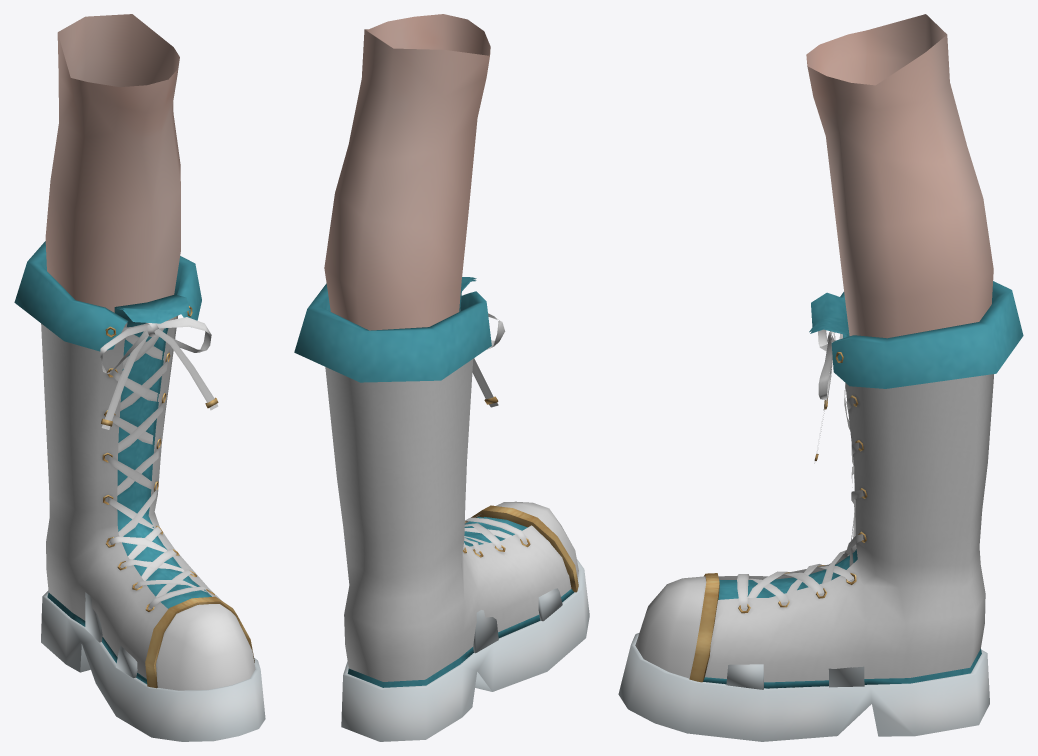
The model's file is KOSHIRO_Pie_1.obj.
3 views of the same model, side by side, from view 1: azimuth 30°, elevation 25°; view 2: azimuth 150°, elevation 25°; view 3: azimuth 270°, elevation 25° (orthographic). The views are drawn at different scales.
Parts seen in each view (by area): view 1: Pie_1_face_Plane.009; view 2: Pie_1_face_Plane.009; view 3: Pie_1_face_Plane.009.
Part boxes in pixels (<box>): Pie_1_face_Plane.009: <box>14,14,265,741</box>; Pie_1_face_Plane.009: <box>294,14,589,741</box>; Pie_1_face_Plane.009: <box>618,14,1023,741</box>.
Bounding box in the file's own units: 0.1064 × 0.4353 × 0.2364.
